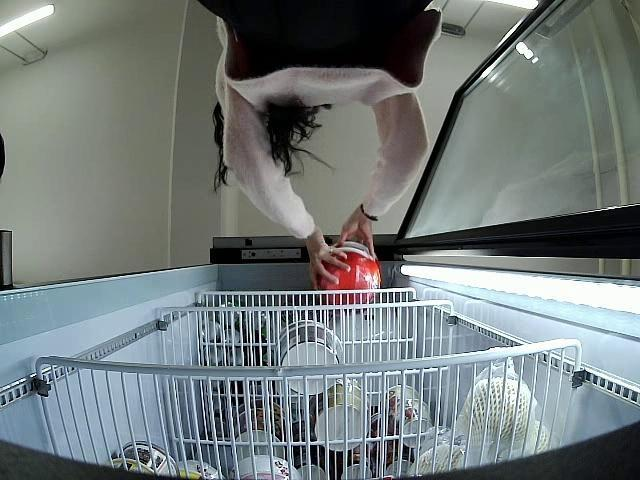10_wangTtukkeong: (314, 250, 380, 304), (324, 238, 376, 262)
